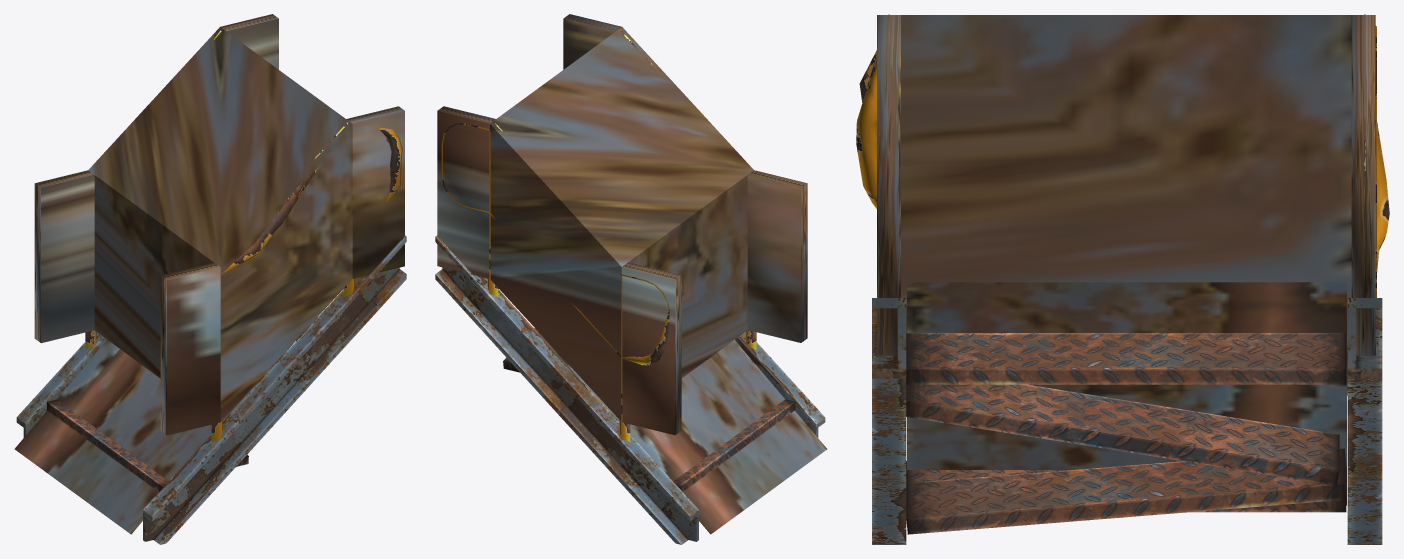
The model's file is platform_stairs01_B.FBX.
The picture shows the model from 3 angles, left to right: view 1: azimuth 30°, elevation 25°; view 2: azimuth 150°, elevation 25°; view 3: azimuth 270°, elevation 25°; orthographic projection. The views are drawn at different scales.
Parts seen in each view (by area): view 1: platform_stairs01_B_COL, platform_stairs01_B; view 2: platform_stairs01_B_COL, platform_stairs01_B; view 3: platform_stairs01_B_COL, platform_stairs01_B.
Part boxes in pixels (<box>): platform_stairs01_B_COL: <box>14,14,404,534</box>; platform_stairs01_B: <box>16,30,406,544</box>; platform_stairs01_B_COL: <box>437,14,827,534</box>; platform_stairs01_B: <box>435,30,825,544</box>; platform_stairs01_B_COL: <box>877,15,1375,505</box>; platform_stairs01_B: <box>856,14,1389,544</box>.
Bounding box in the file's own units: 168 × 225 × 155.
